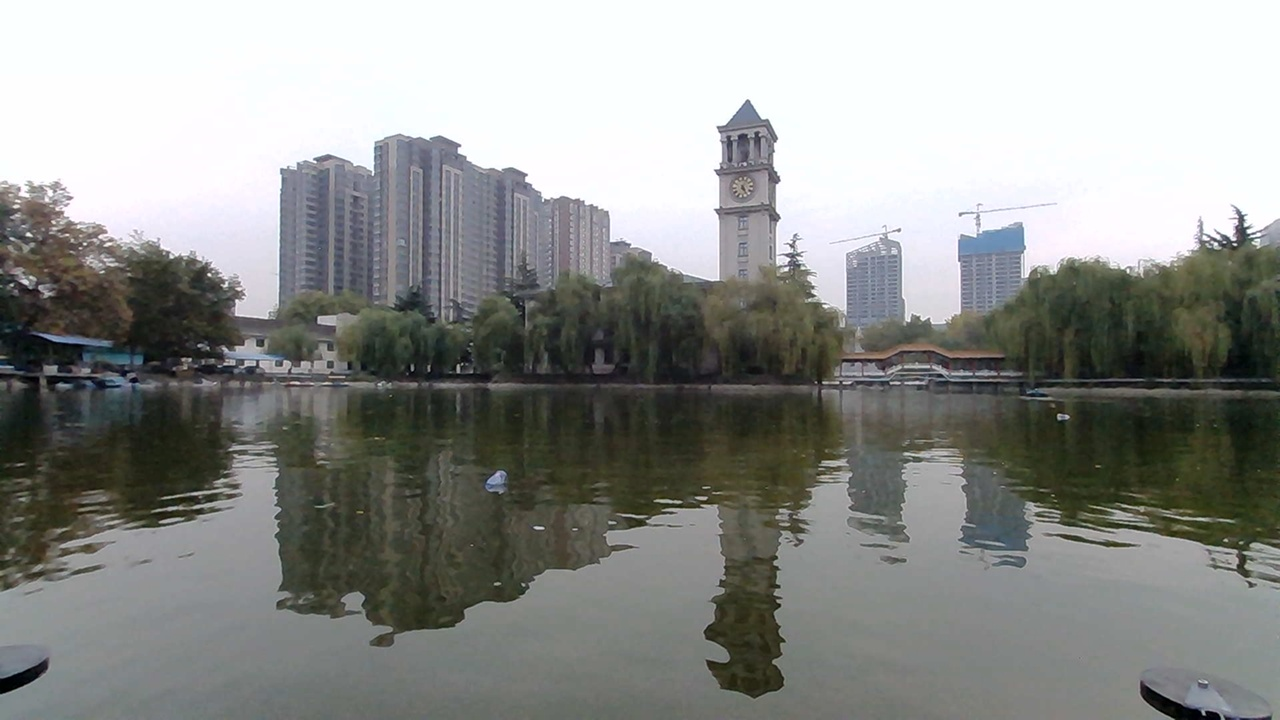bottle: (463, 451, 541, 498), (1033, 401, 1090, 429)
